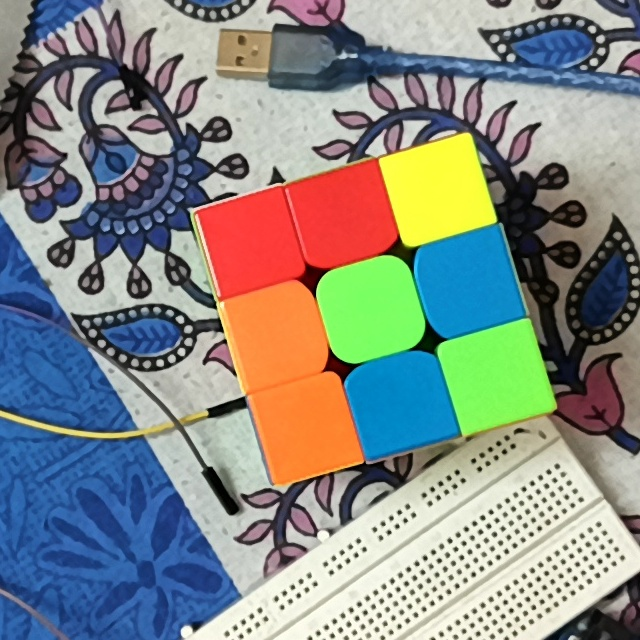tile: (333, 274, 414, 346), (243, 296, 315, 372), (363, 368, 437, 441), (302, 183, 382, 250), (434, 245, 506, 319), (273, 389, 341, 464), (466, 342, 535, 414), (218, 204, 284, 276), (404, 155, 470, 227)
